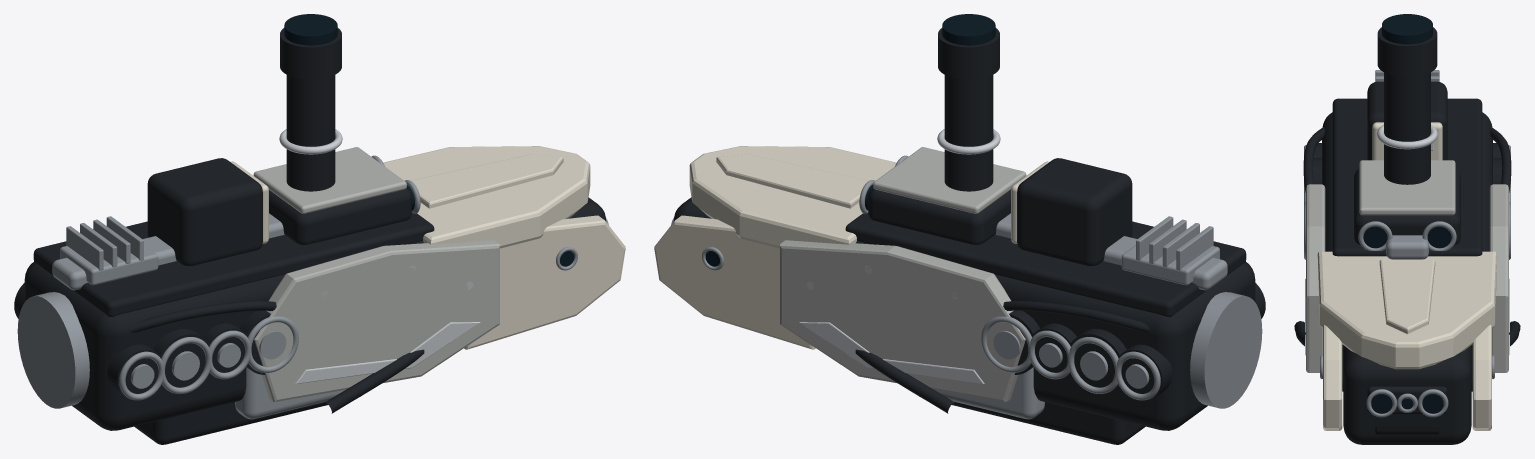
3 views of the same model, side by side, from view 1: azimuth 30°, elevation 25°; view 2: azimuth 150°, elevation 25°; view 3: azimuth 270°, elevation 25° (orthographic). The views are drawn at different scales.
Visible parts, largest first — view 1: base_link; view 2: base_link; view 3: base_link.
Part boxes in pixels (x1,y1,x2,y2): base_link: (14, 14, 625, 444); base_link: (654, 14, 1265, 444); base_link: (1294, 14, 1520, 444).
Size of the model in its own units: 0.5642 by 0.356 by 0.2116.
